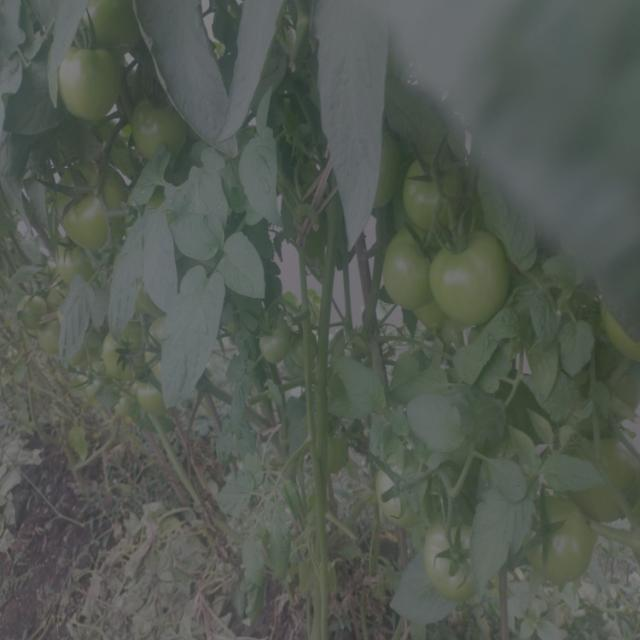tomato: (436, 228, 515, 333), (52, 152, 138, 243), (526, 488, 601, 588), (580, 433, 639, 517), (59, 49, 125, 124), (404, 153, 469, 228), (425, 519, 483, 598), (373, 449, 433, 524), (379, 226, 432, 309), (130, 93, 195, 157), (85, 1, 149, 53), (97, 323, 150, 377), (372, 131, 402, 200), (126, 377, 173, 421), (51, 239, 94, 285), (319, 427, 356, 480), (257, 315, 292, 369), (38, 315, 64, 361), (73, 369, 109, 402), (17, 289, 48, 325)
